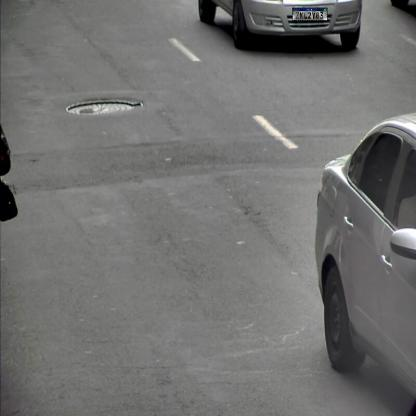PlacaM: (292, 7, 328, 20)
